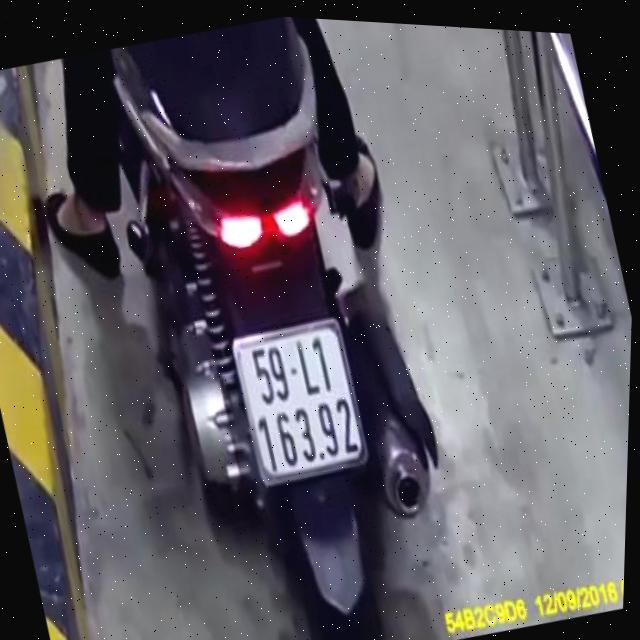motorcycle: (77, 14, 503, 640)
plate: (220, 307, 376, 493)
